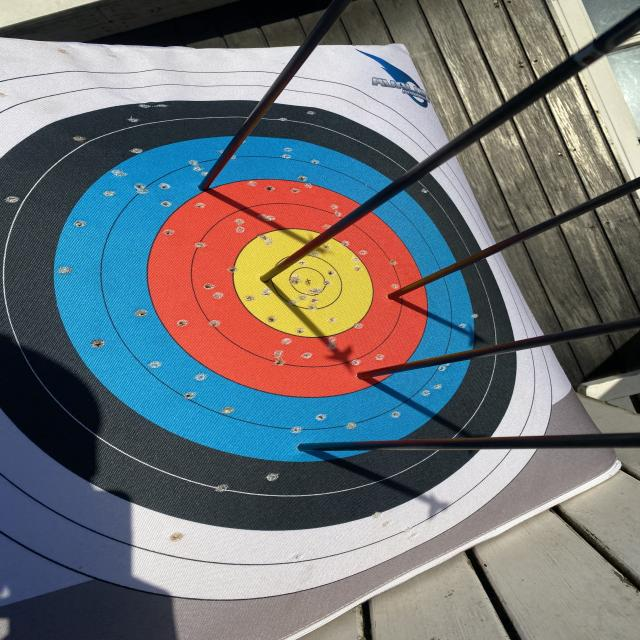Arrow_Blue: (192, 171, 225, 200)
Arrow_Red: (278, 436, 330, 460), (348, 360, 384, 394), (378, 283, 412, 308)
Arrow_Yellow: (246, 266, 282, 288)
